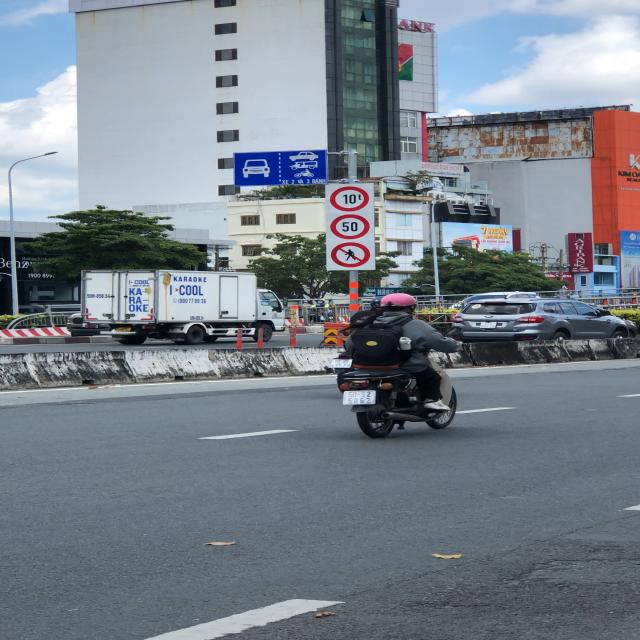Bien bao cam nguoi di bo: (328, 242, 376, 270)
Bien bao toc do toi da cho phep: (330, 212, 377, 242)
